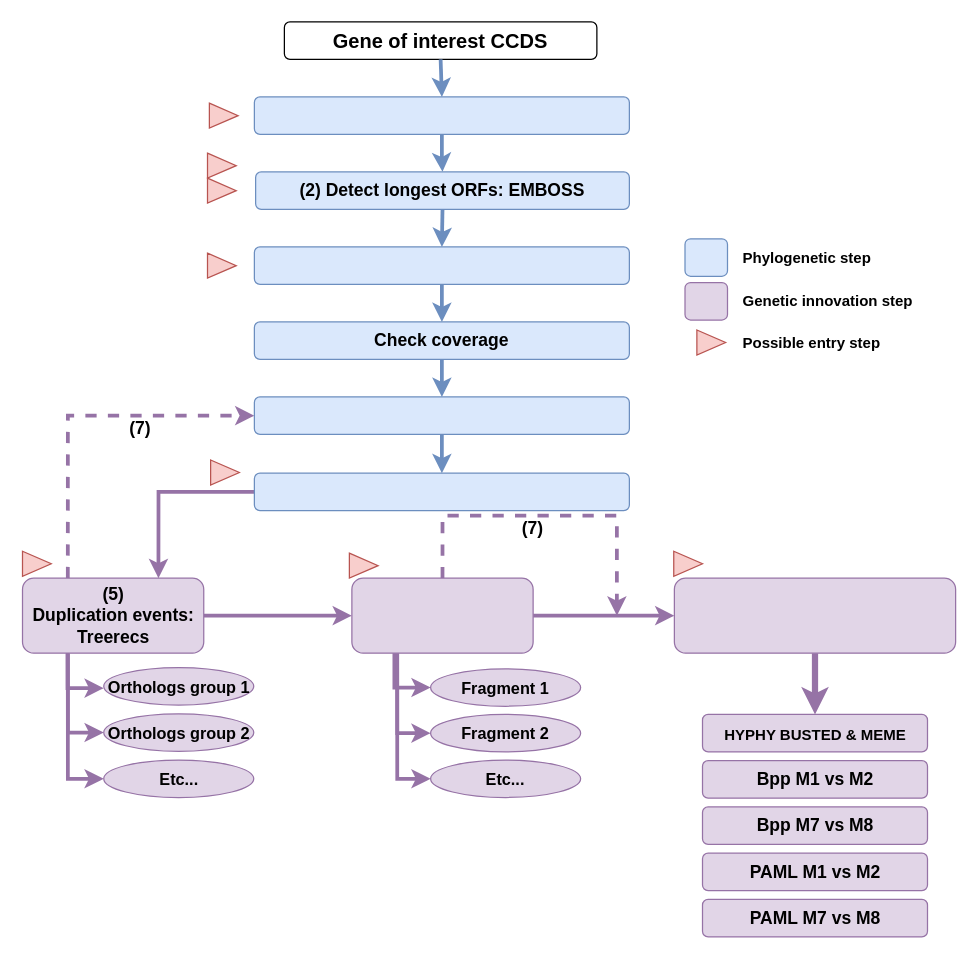
This 978x959 diagram has some shape labels left out. Here are the shapes that lost their labels. From the top down, the centre of each, then its label:
pixel 441 115: (1) Homologs retrieval : blastn
pixel 441 265: (3) Codon alignment: PRANK
pixel 441 415: Re-align: PRANK
pixel 441 491: (4) Phylogenetic tree: PhyML
pixel 442 615: (6) Recombination events: GARD
pixel 814 615: (8) Positive selection analyses (Site/Branch)
